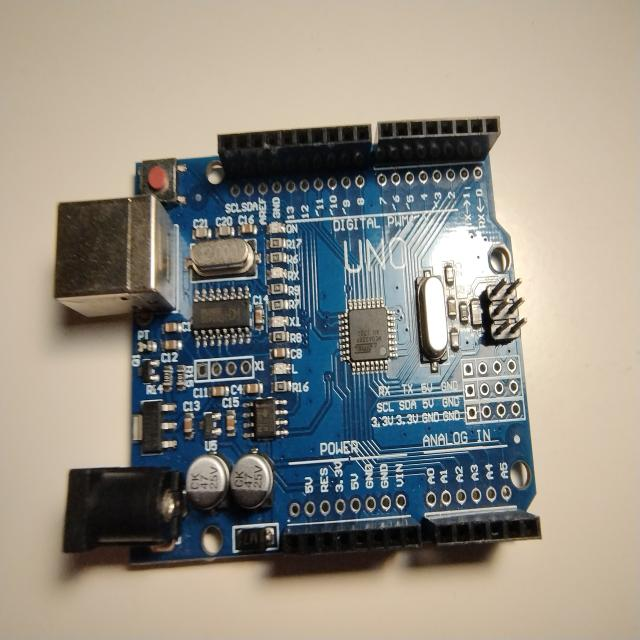arduino: (52, 114, 565, 574)
